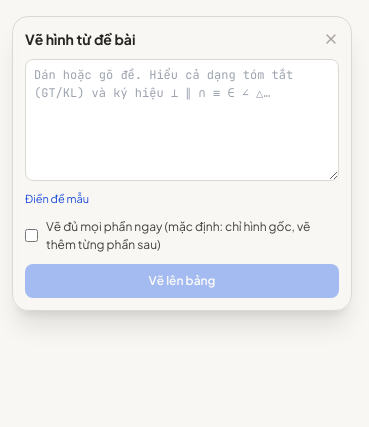
Test: bảng dụng cụ / hộp thoại vẽ từ đề › đề không nhận ra thì báo, nút vẽ bị khóa
Replace the text in the text box with test id "geo-problem-text" with "Tính tích phân của x" at x=182, y=120, box [25, 59, 339, 181]
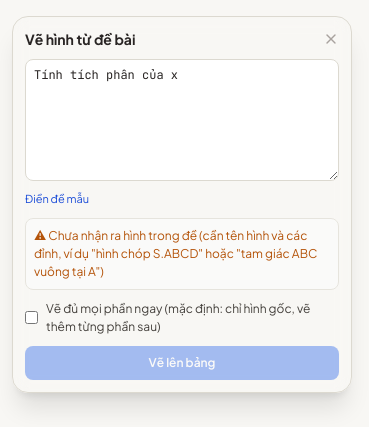
Check: the button with test id "geo-problem-draw" is disabled, box [25, 346, 339, 380]
Check: the element with test id "geo-problem-preview" shows "Chưa nhận ra hình", box [34, 228, 317, 278]
